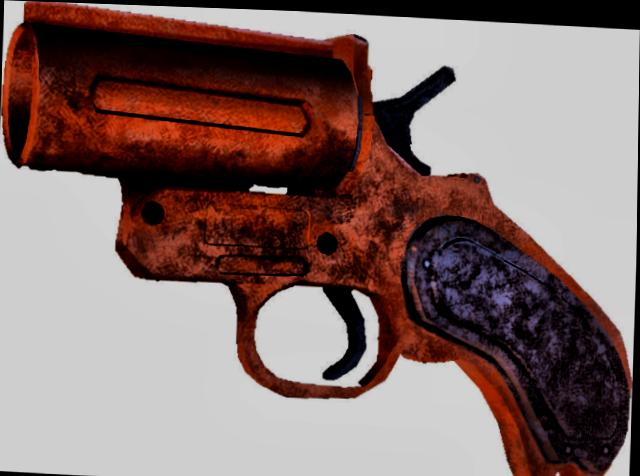pistol: (0, 0, 634, 476)
